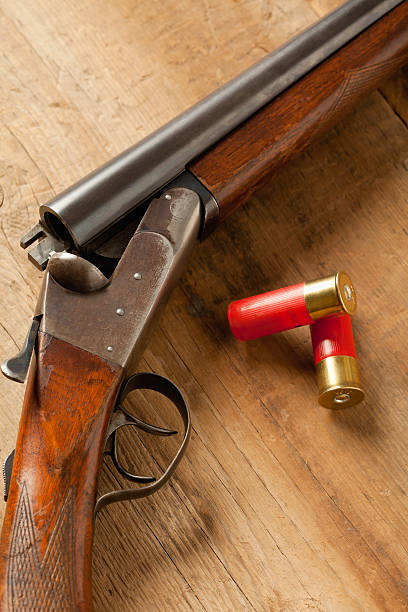shotgun: (3, 3, 407, 612)
